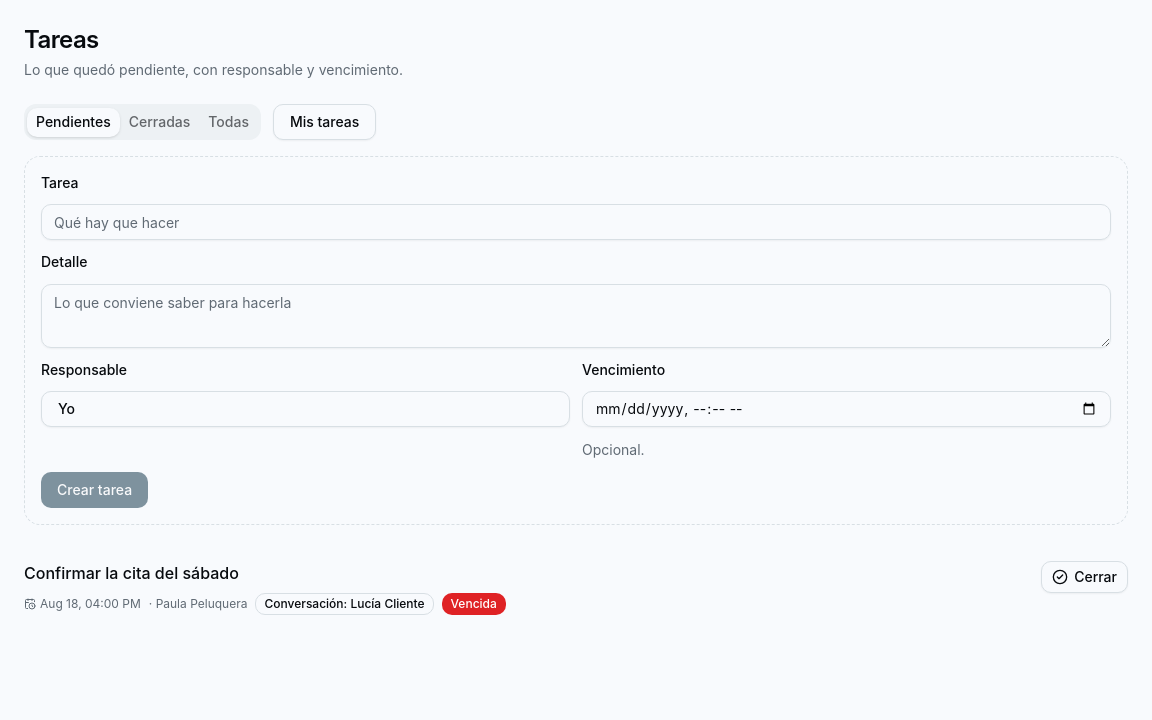
Test: lista de tareas › muestra el conflicto de versión tal como lo explica el servidor
expect the text "Confirmar la cita del sábado" is shown: met, box [24,563,239,583]
Click the button with aria-label "Cerrar Confirmar la cita del sábado" at x=1085, y=577, box [1041,561,1128,593]
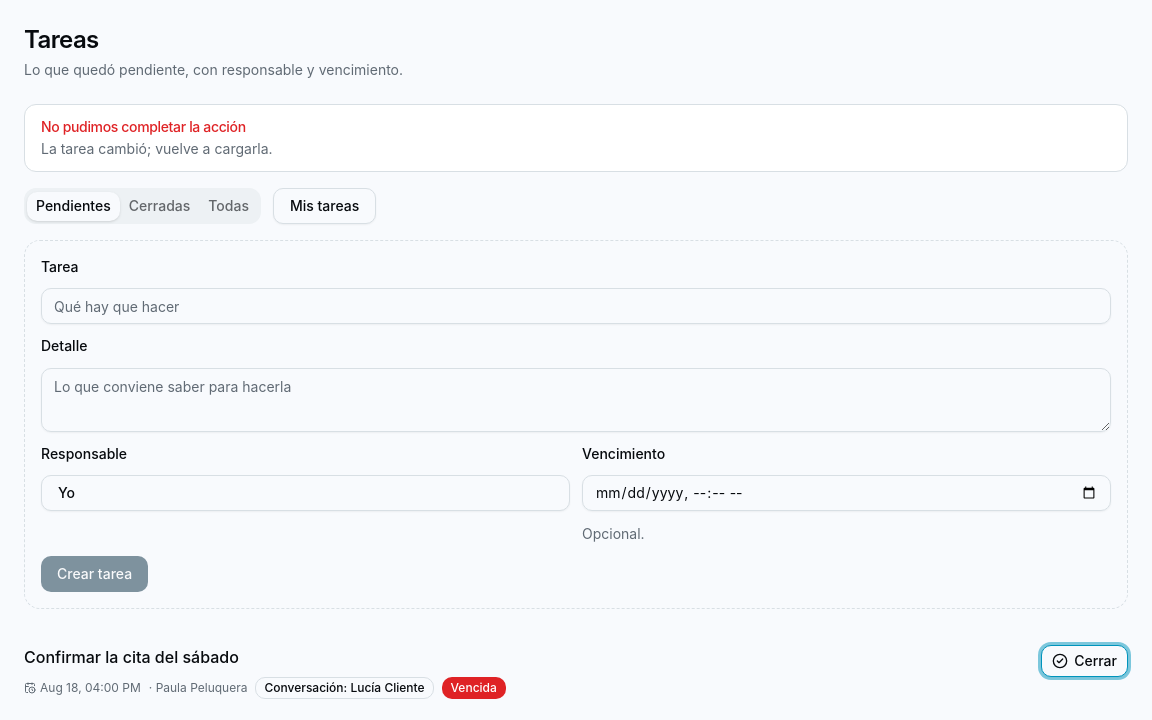
expect the text "La tarea cambió; vuelve a cargarla." is shown: met, box [41,140,273,157]
